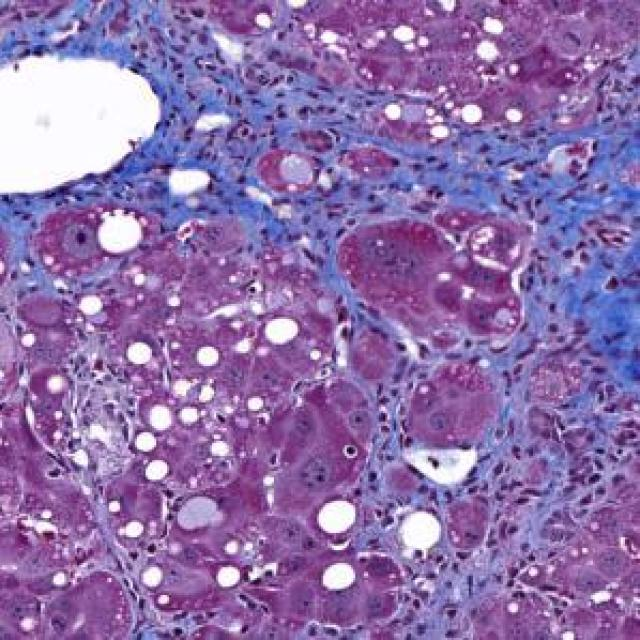fibrosis: (152, 28, 387, 218), (426, 114, 640, 291), (494, 330, 640, 490), (355, 477, 499, 610)
